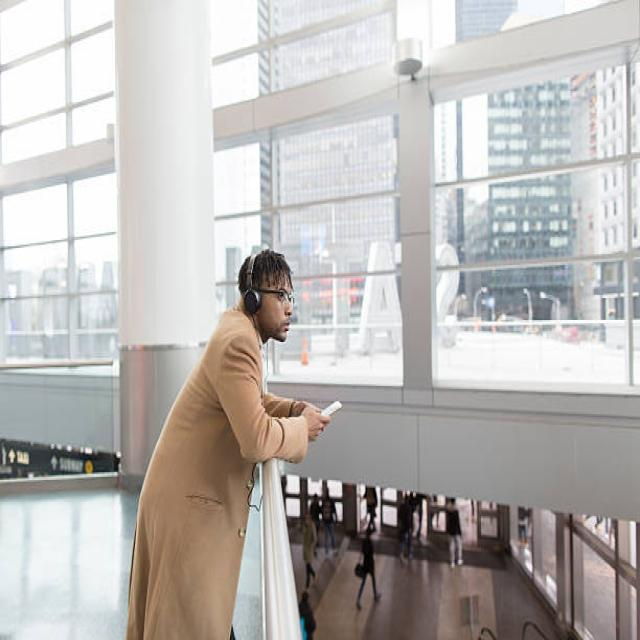Headphone: (242, 250, 263, 315)
